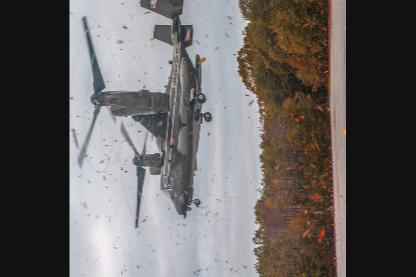Tornado: (77, 0, 213, 228)
